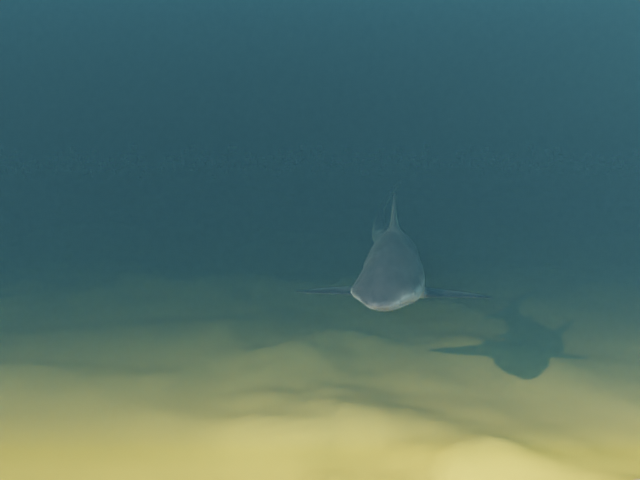Carribean Shark.001: (293, 180, 493, 311)
